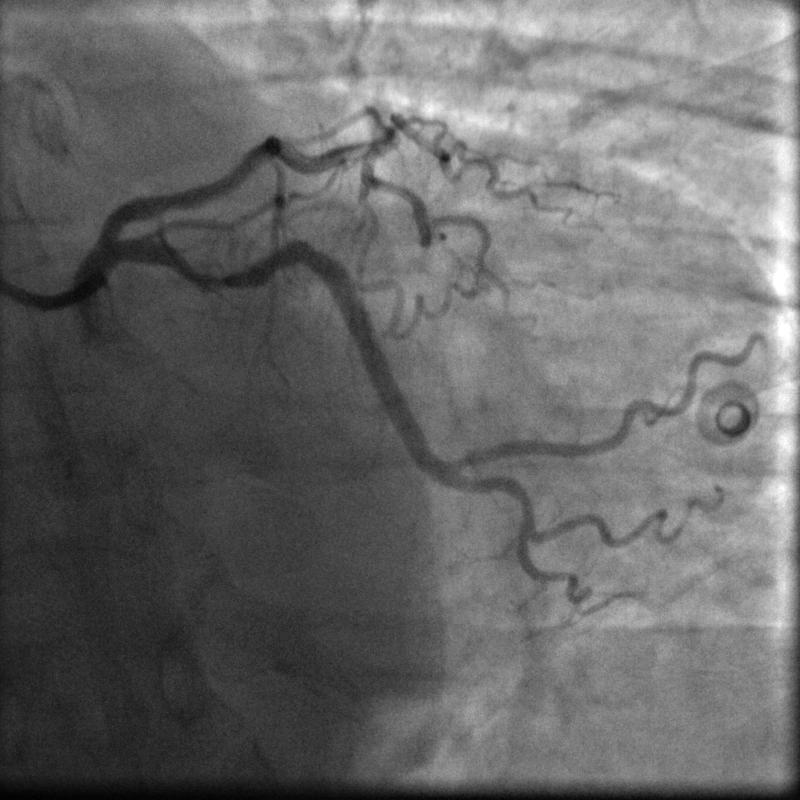Stenosis: (196, 265, 257, 290)
